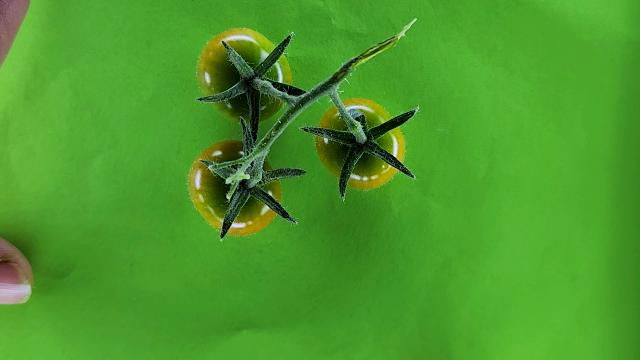Fully Grown: (195, 28, 291, 124), (188, 141, 283, 236), (315, 98, 406, 189)
